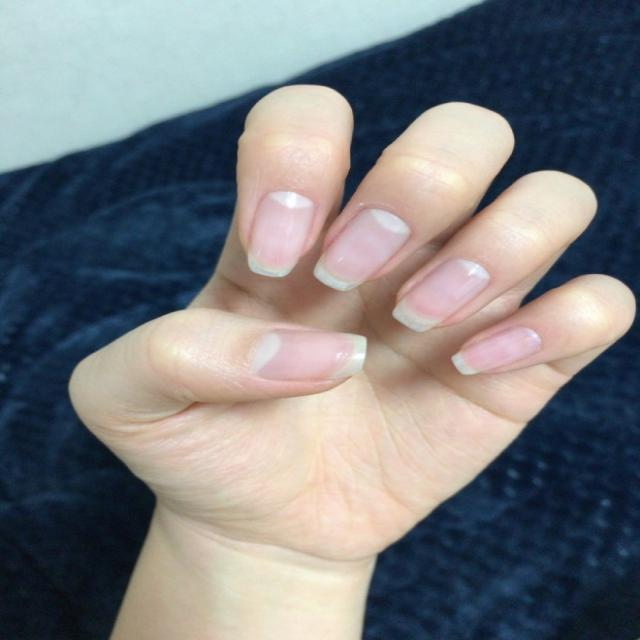Nail: (313, 208, 410, 291), (392, 259, 490, 332), (252, 330, 367, 380), (248, 191, 314, 277), (452, 326, 542, 375)
